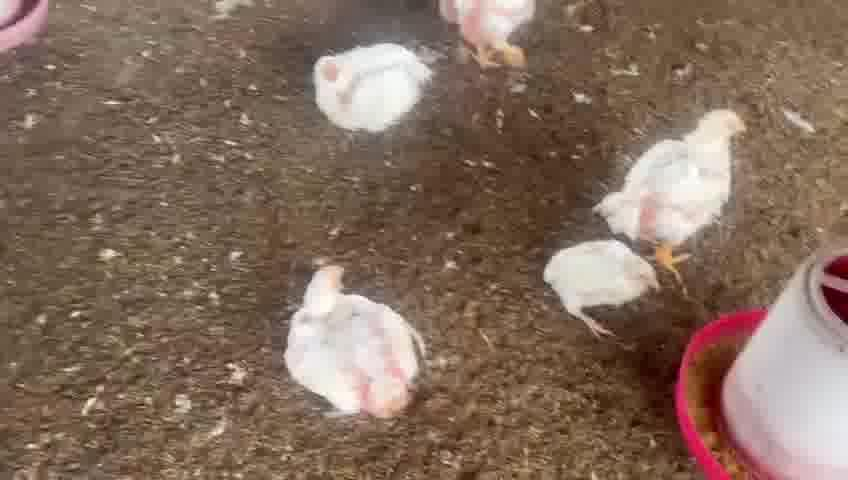AbNormal: (532, 223, 675, 359)
Normal: (594, 90, 753, 268), (281, 265, 428, 419), (308, 39, 442, 138)
